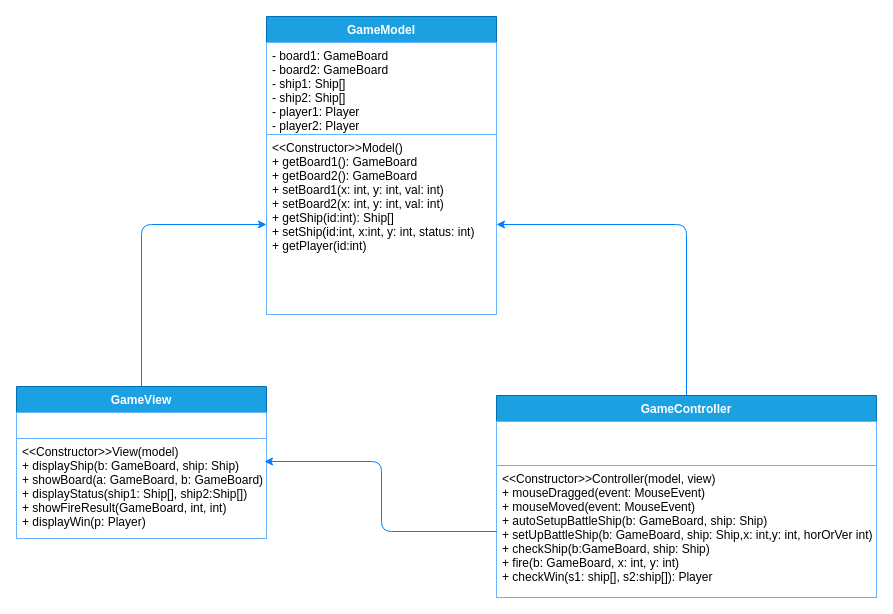
Image size: 893x614. Some labels were removed from this diagram. Here are the shapes that lost their labels. From the top down, the centre of each, then its label:
At (141,425): "- model: GameView".
At (686,443): "- model: GameView - view: GameView".
